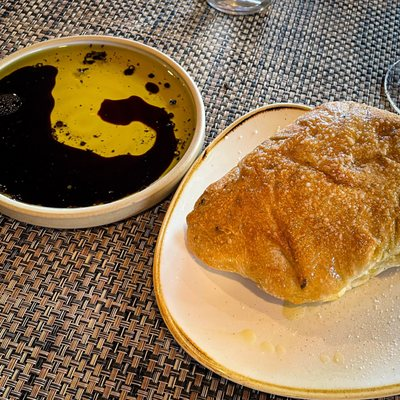sushi: (0, 35, 207, 230)
